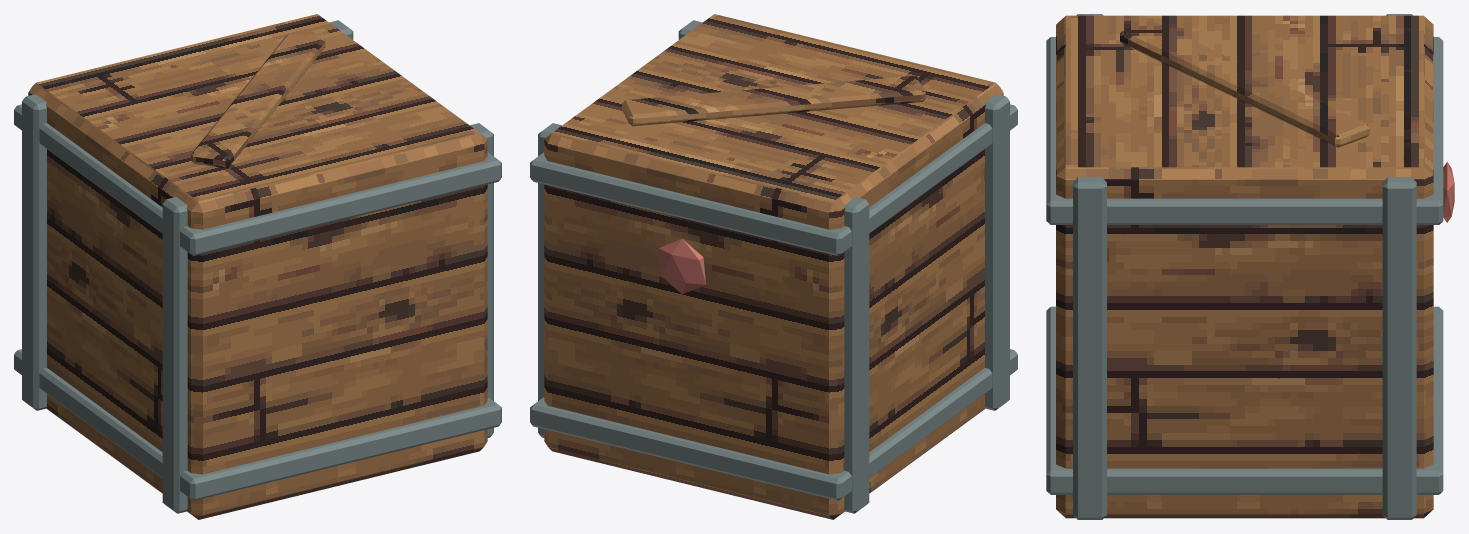
File: caixa.glb
The picture shows the model from 3 angles, left to right: view 1: azimuth 30°, elevation 25°; view 2: azimuth 150°, elevation 25°; view 3: azimuth 270°, elevation 25°; orthographic projection. The views are drawn at different scales.
Visible parts, largest first — view 1: bosque_caixa; view 2: bosque_caixa; view 3: bosque_caixa.
Part boxes in pixels (x1,y1,x2,y2): bosque_caixa: [14, 14, 501, 519]; bosque_caixa: [530, 14, 1017, 519]; bosque_caixa: [1046, 14, 1454, 519].
Bounding box in the file's own units: 0.842 × 0.832 × 0.8433.
Materials: 3 (1 with a texture image).
